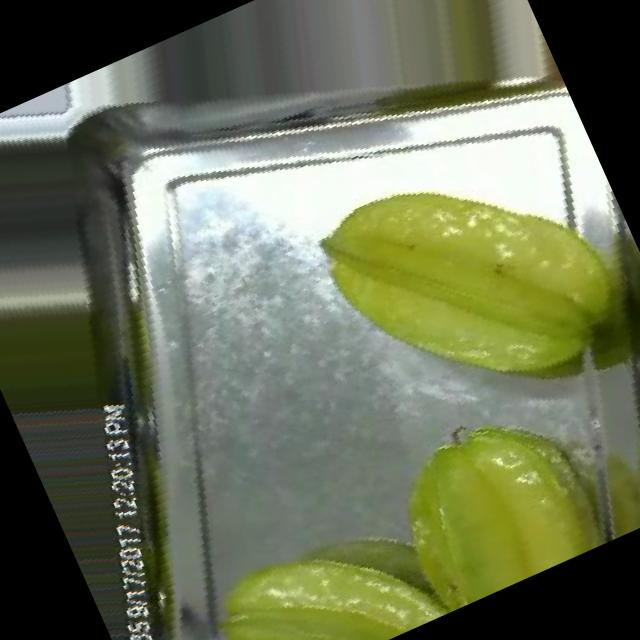fruit: (254, 86, 640, 496), (312, 341, 640, 637), (145, 440, 486, 640)
